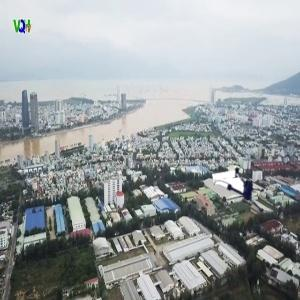drone: (217, 164, 279, 226)
